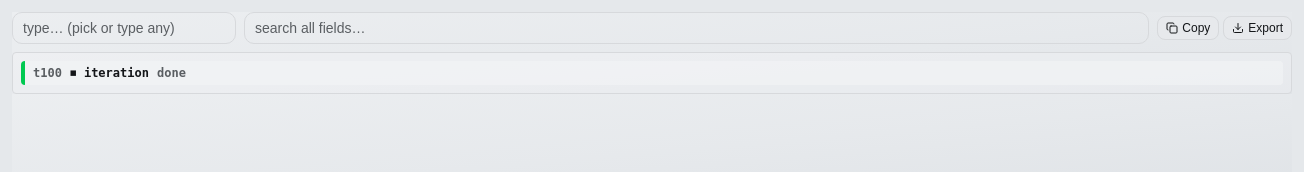
FullAuditLog (paged) › full-text search composes across fields and clears back to the live view
This screenshot has width=1304, height=172.
expect the text "done" is shown: met, box 157,66 -> 186,80
Type "boom" into the field named "Search text" at [697, 28], box 244,12 -> 1149,44
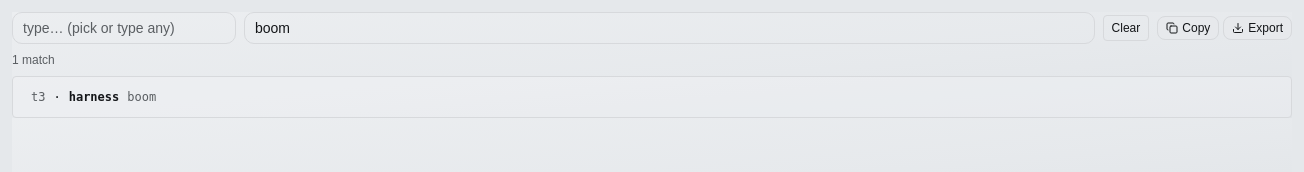
expect the text "1 match" is shown: met, box 12,53 -> 55,67
Note: Clearing restores the paged live view (recent 50 with the done boundary).
Click the button "Clear" at [1126, 28], box 1103,15 -> 1149,41
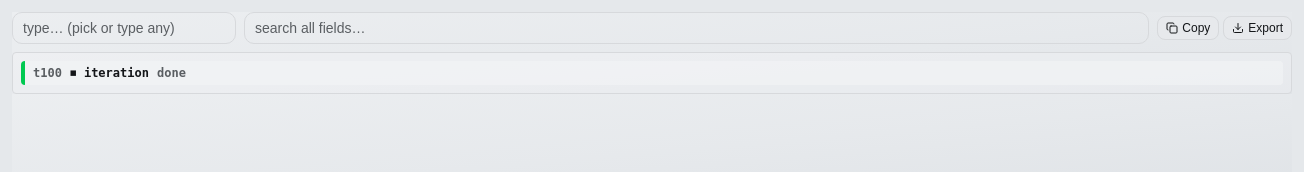
expect the text "done" is shown: met, box 157,66 -> 186,80
